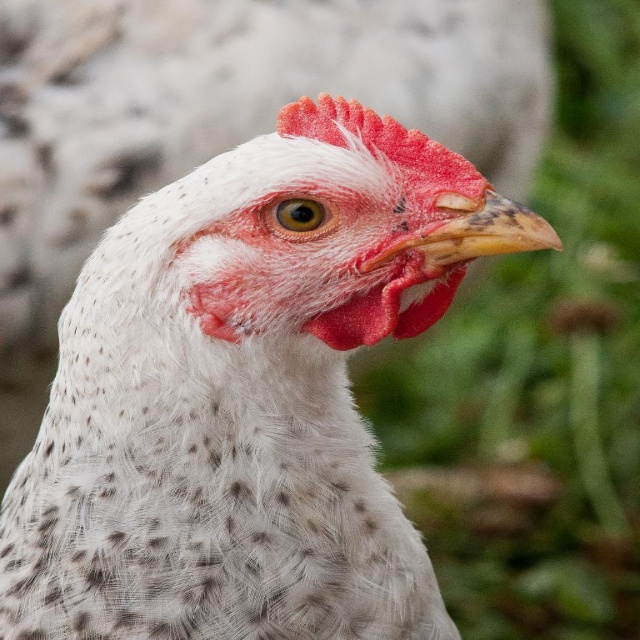Chicken: (0, 97, 576, 619)
